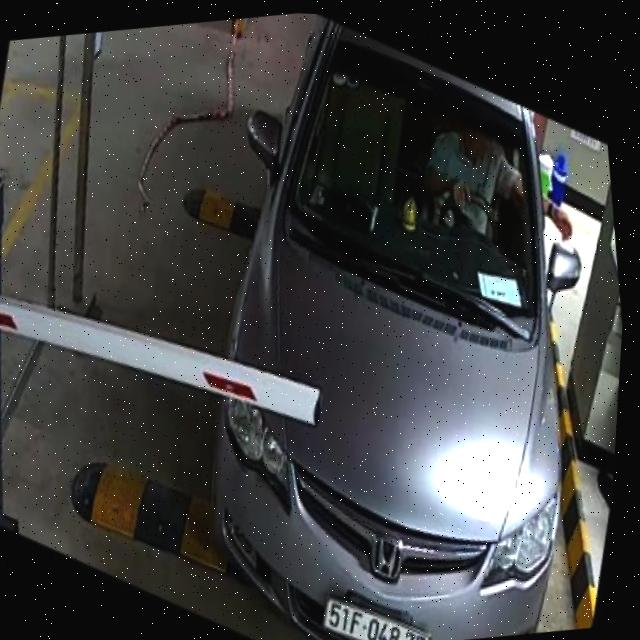car: (131, 8, 640, 640)
plate: (314, 578, 437, 640)
